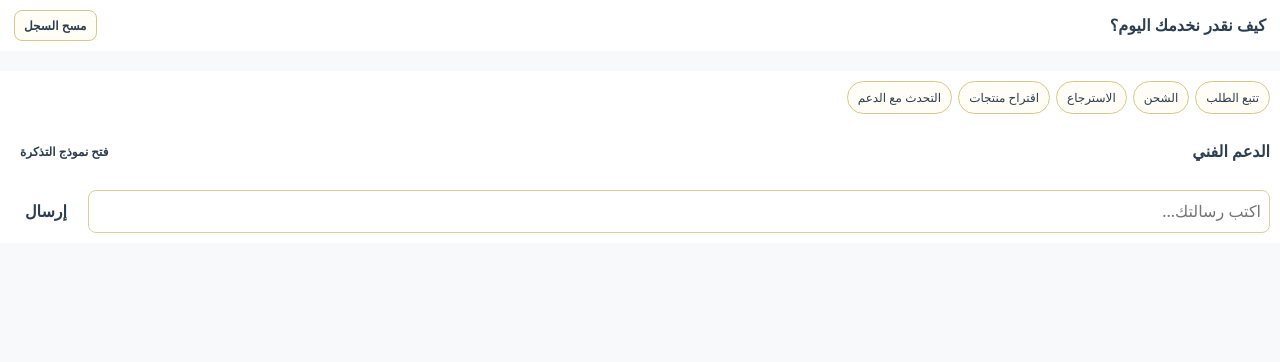
ChatPanel chat flows › shows order tracking details directly after order number is provided
In the field with placeholder "اكتب رسالتك...": (679, 211) [88,190,1270,233], type "تتبع الطلب GL-1"
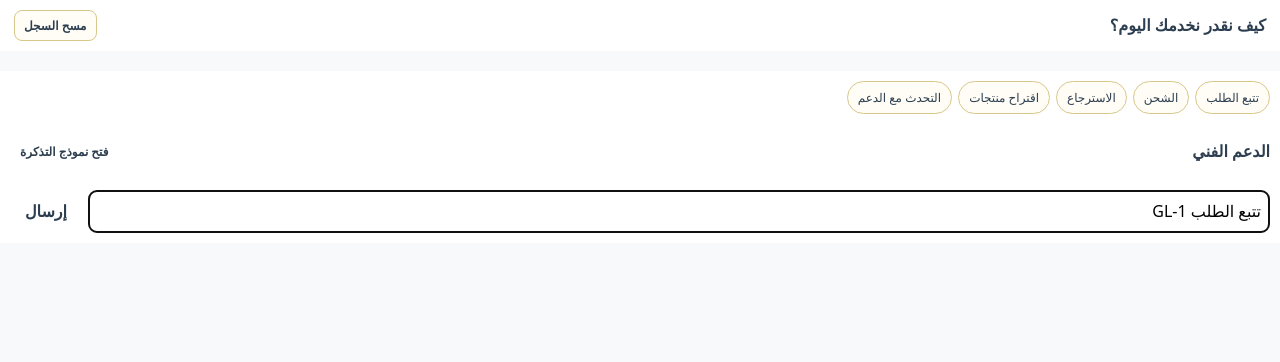
Click the button "إرسال": click(46, 211) [10,190,82,233]
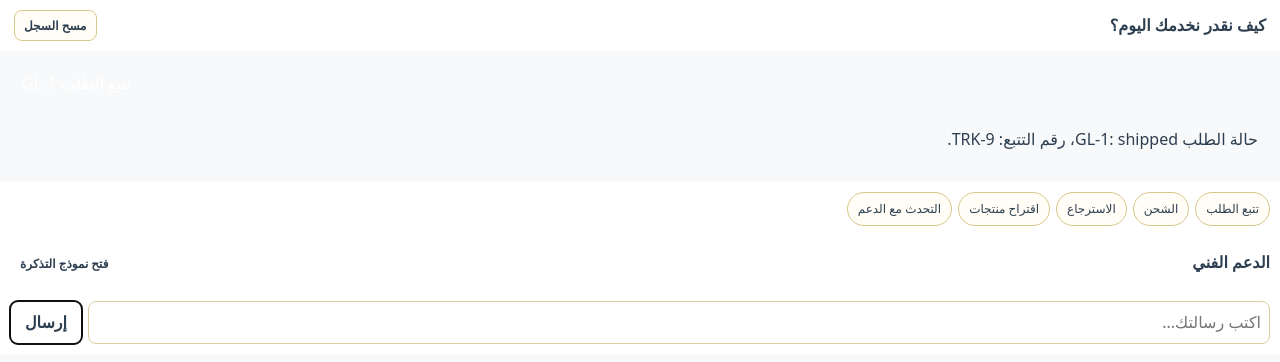
Check: the text "حالة الطلب GL-1: shipped، رقم التتبع: TRK-9." is shown, box [947,128,1258,150]
